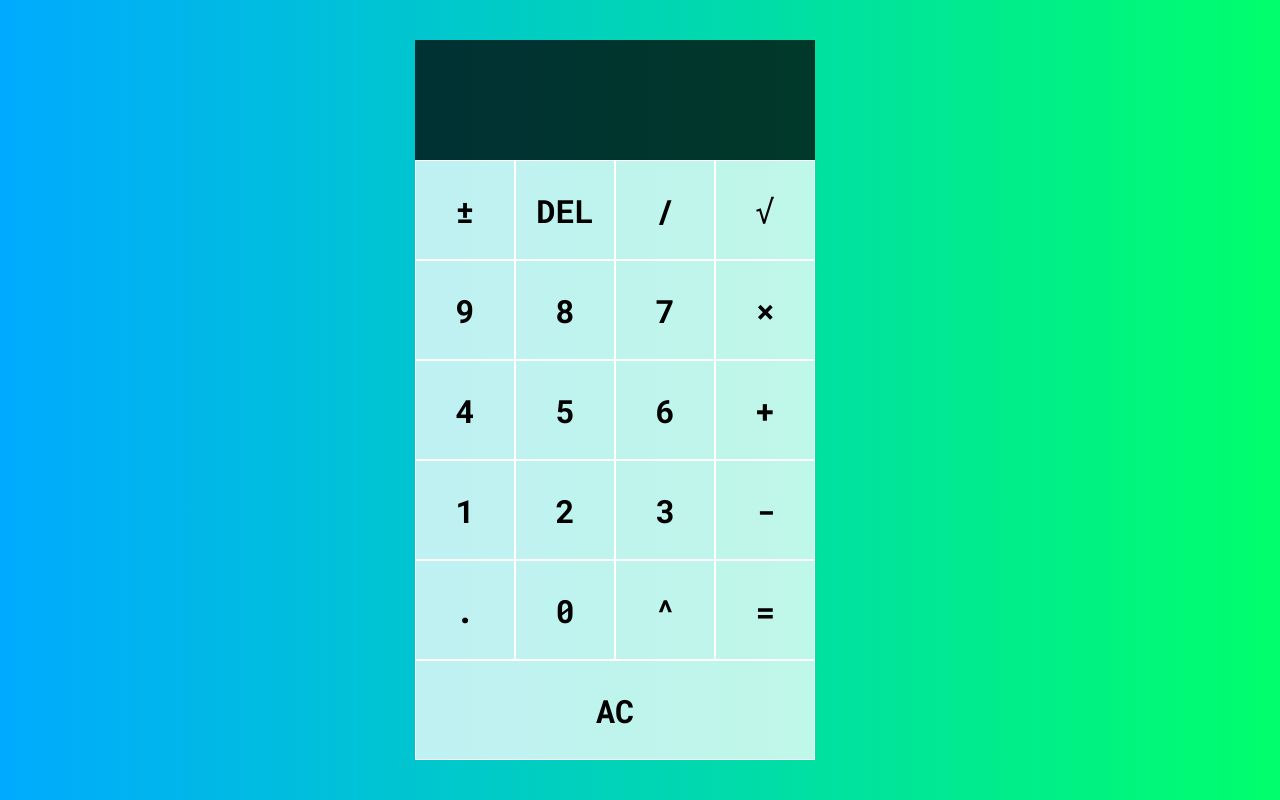
it: negative root throws error and calculator is able to work after that
This screenshot has width=1280, height=800.
Step 1. Click the button "7" → point(665, 310), box left=615, top=260, right=715, bottom=360
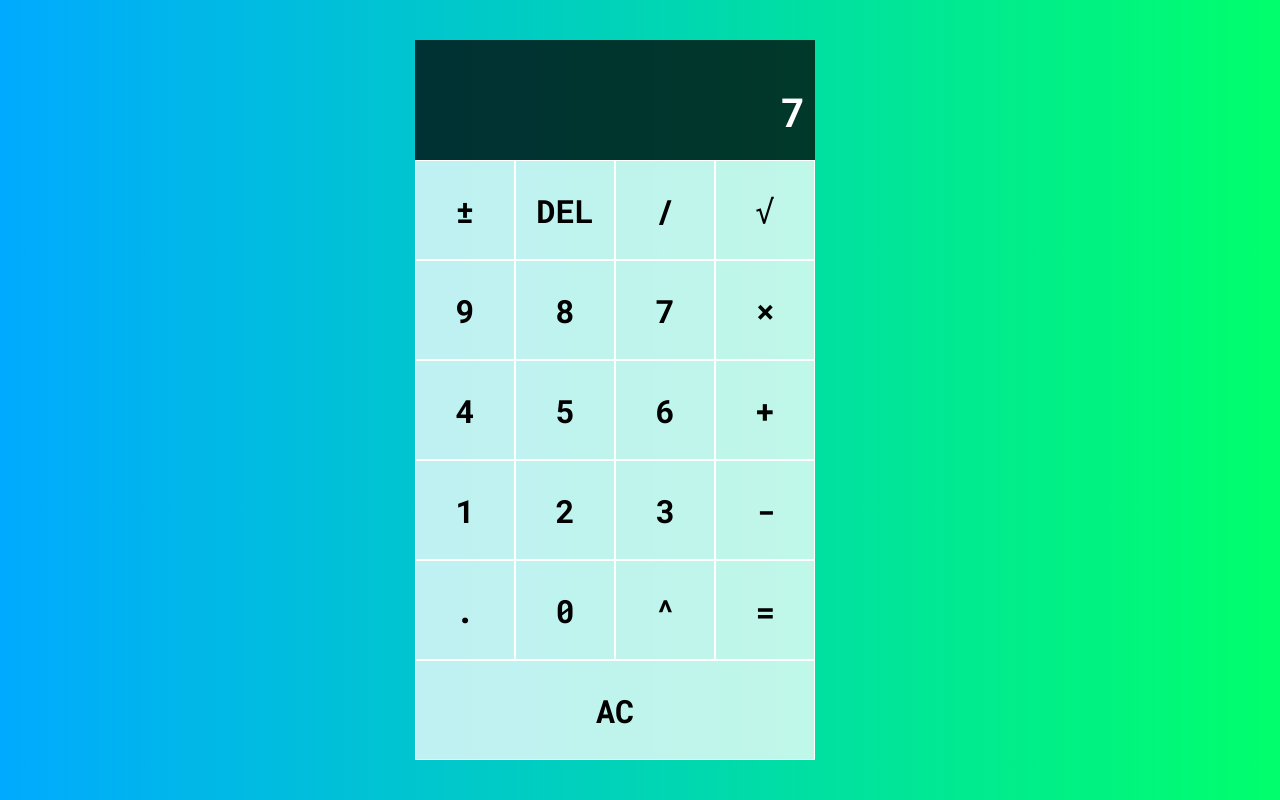
Step 2. Click the button "±" → point(465, 210), box left=415, top=160, right=515, bottom=260
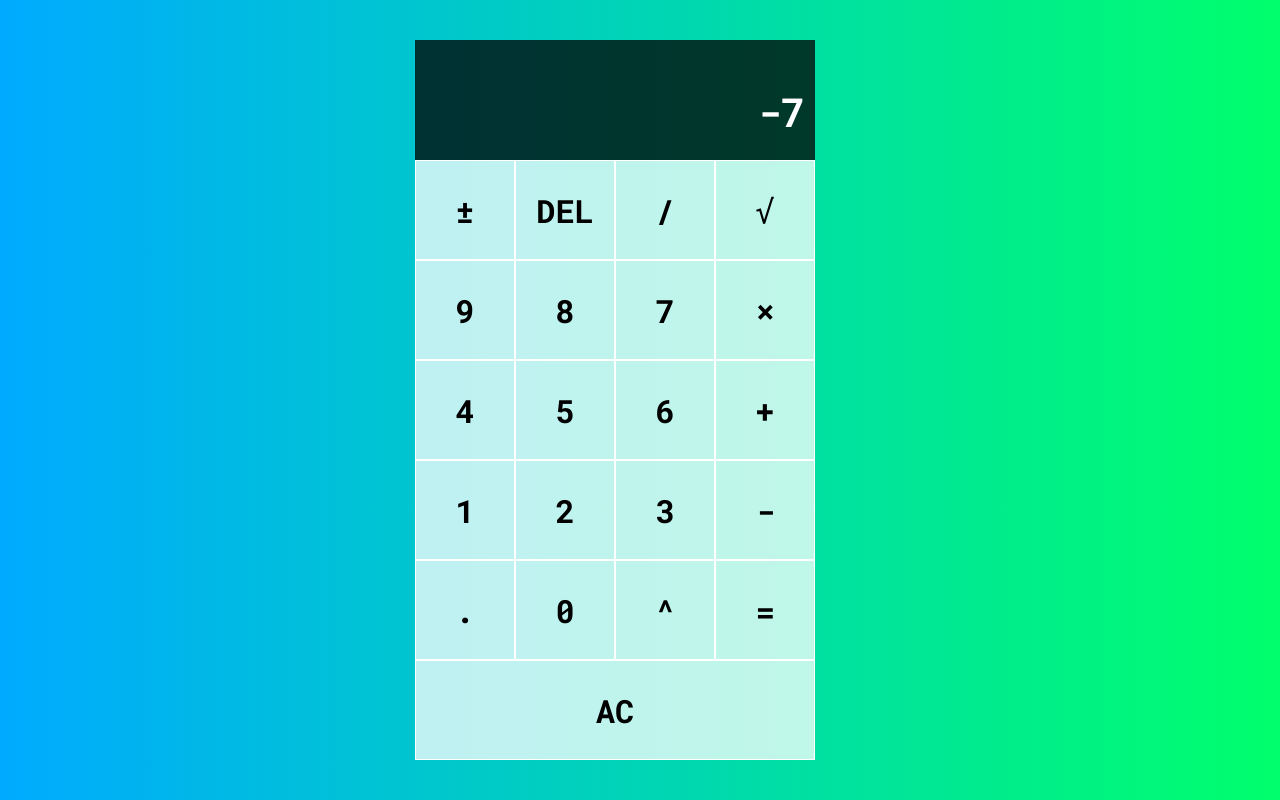
Step 3. Click the button "√" → point(765, 210), box left=715, top=160, right=815, bottom=260
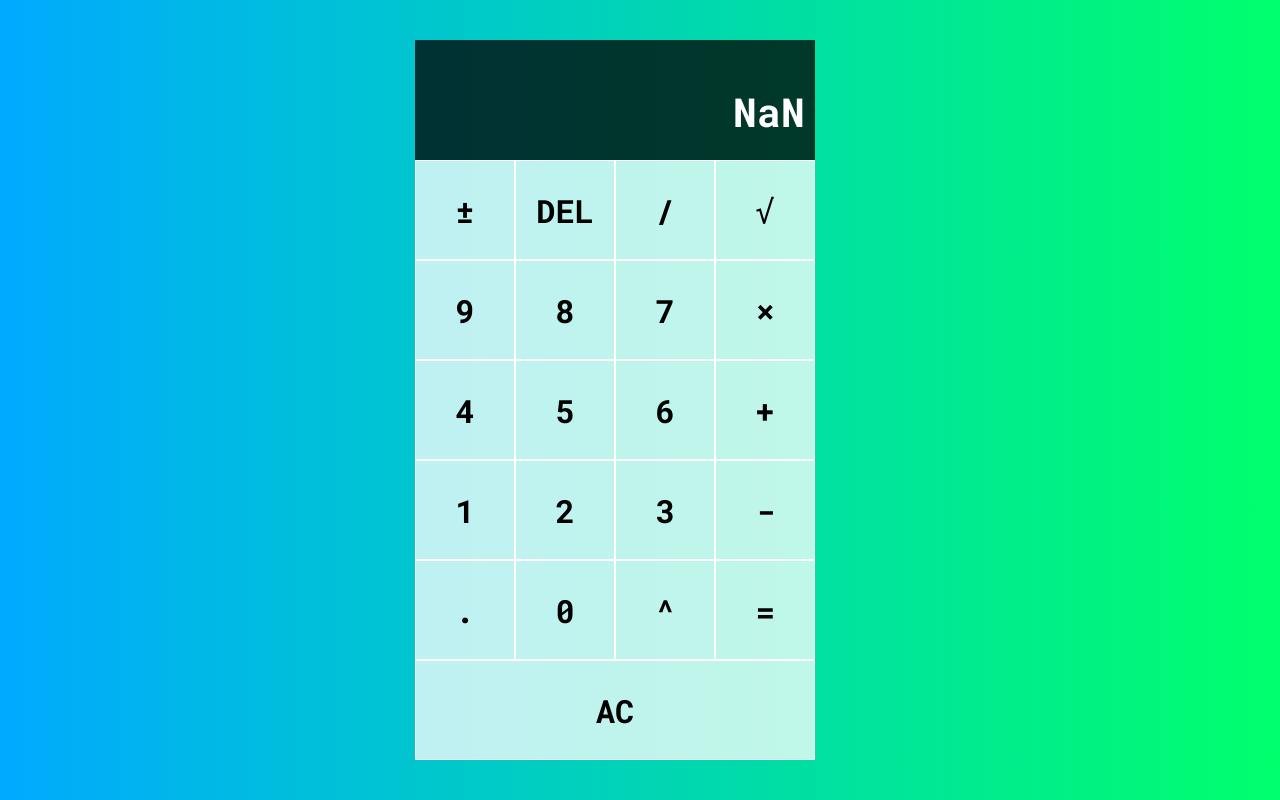
Check: the element showing "NaN" is shown, box left=415, top=40, right=815, bottom=160
Step 4. Click the button "1" → point(465, 510), box left=415, top=460, right=515, bottom=560
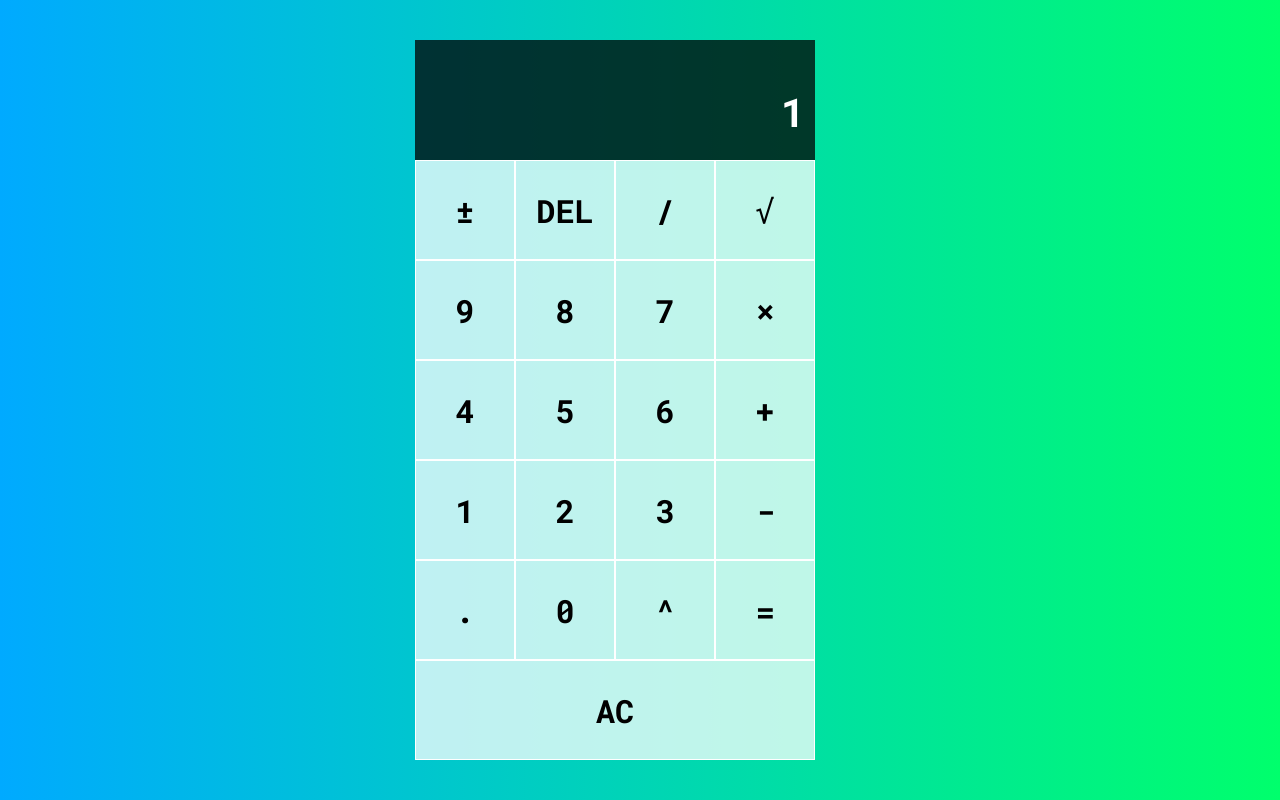
Check: the element showing "1" is shown, box left=415, top=40, right=815, bottom=160
